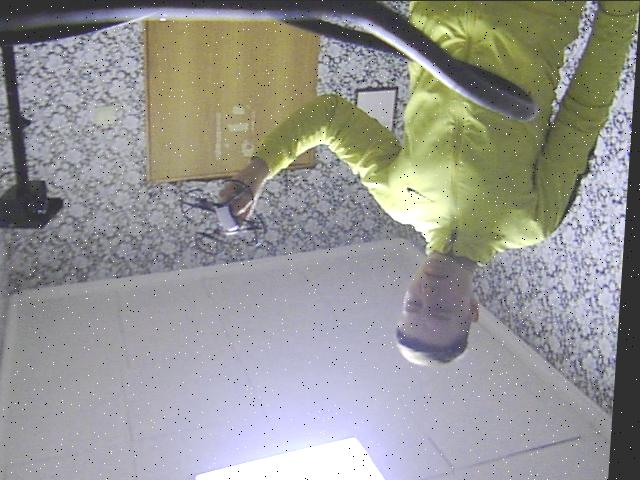drone: (167, 175, 286, 265)
